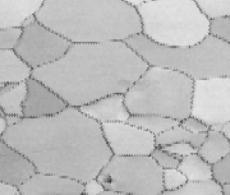good_void: (103, 173, 114, 185), (12, 121, 17, 126)
